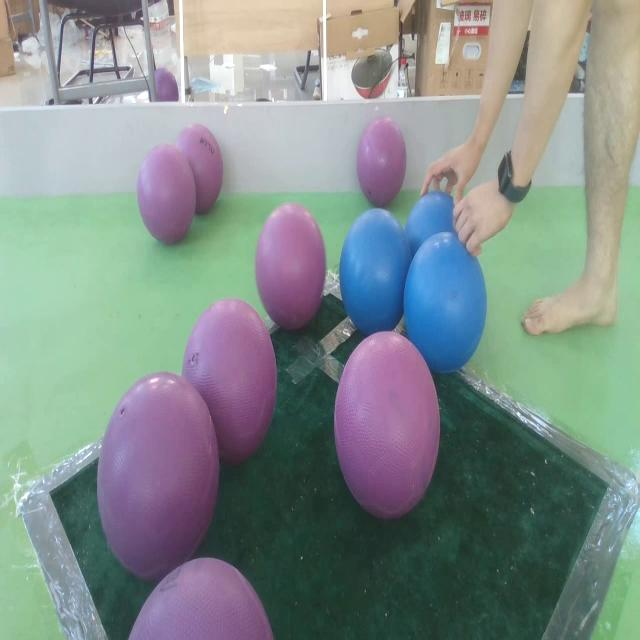blue: (406, 228, 486, 371), (340, 210, 409, 330), (403, 194, 460, 259)
invalid: (98, 370, 216, 569), (334, 330, 444, 518), (183, 311, 278, 458), (257, 201, 328, 329), (137, 144, 197, 243), (355, 118, 405, 205)
